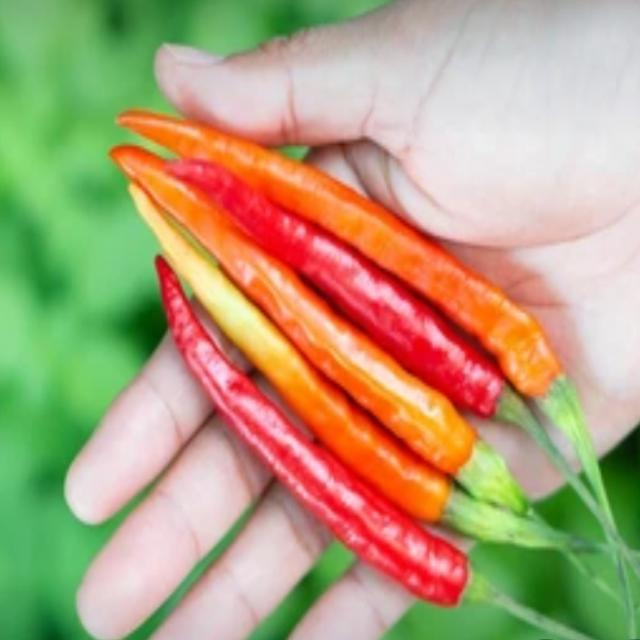red chili: (143, 250, 473, 633), (168, 148, 512, 443)
